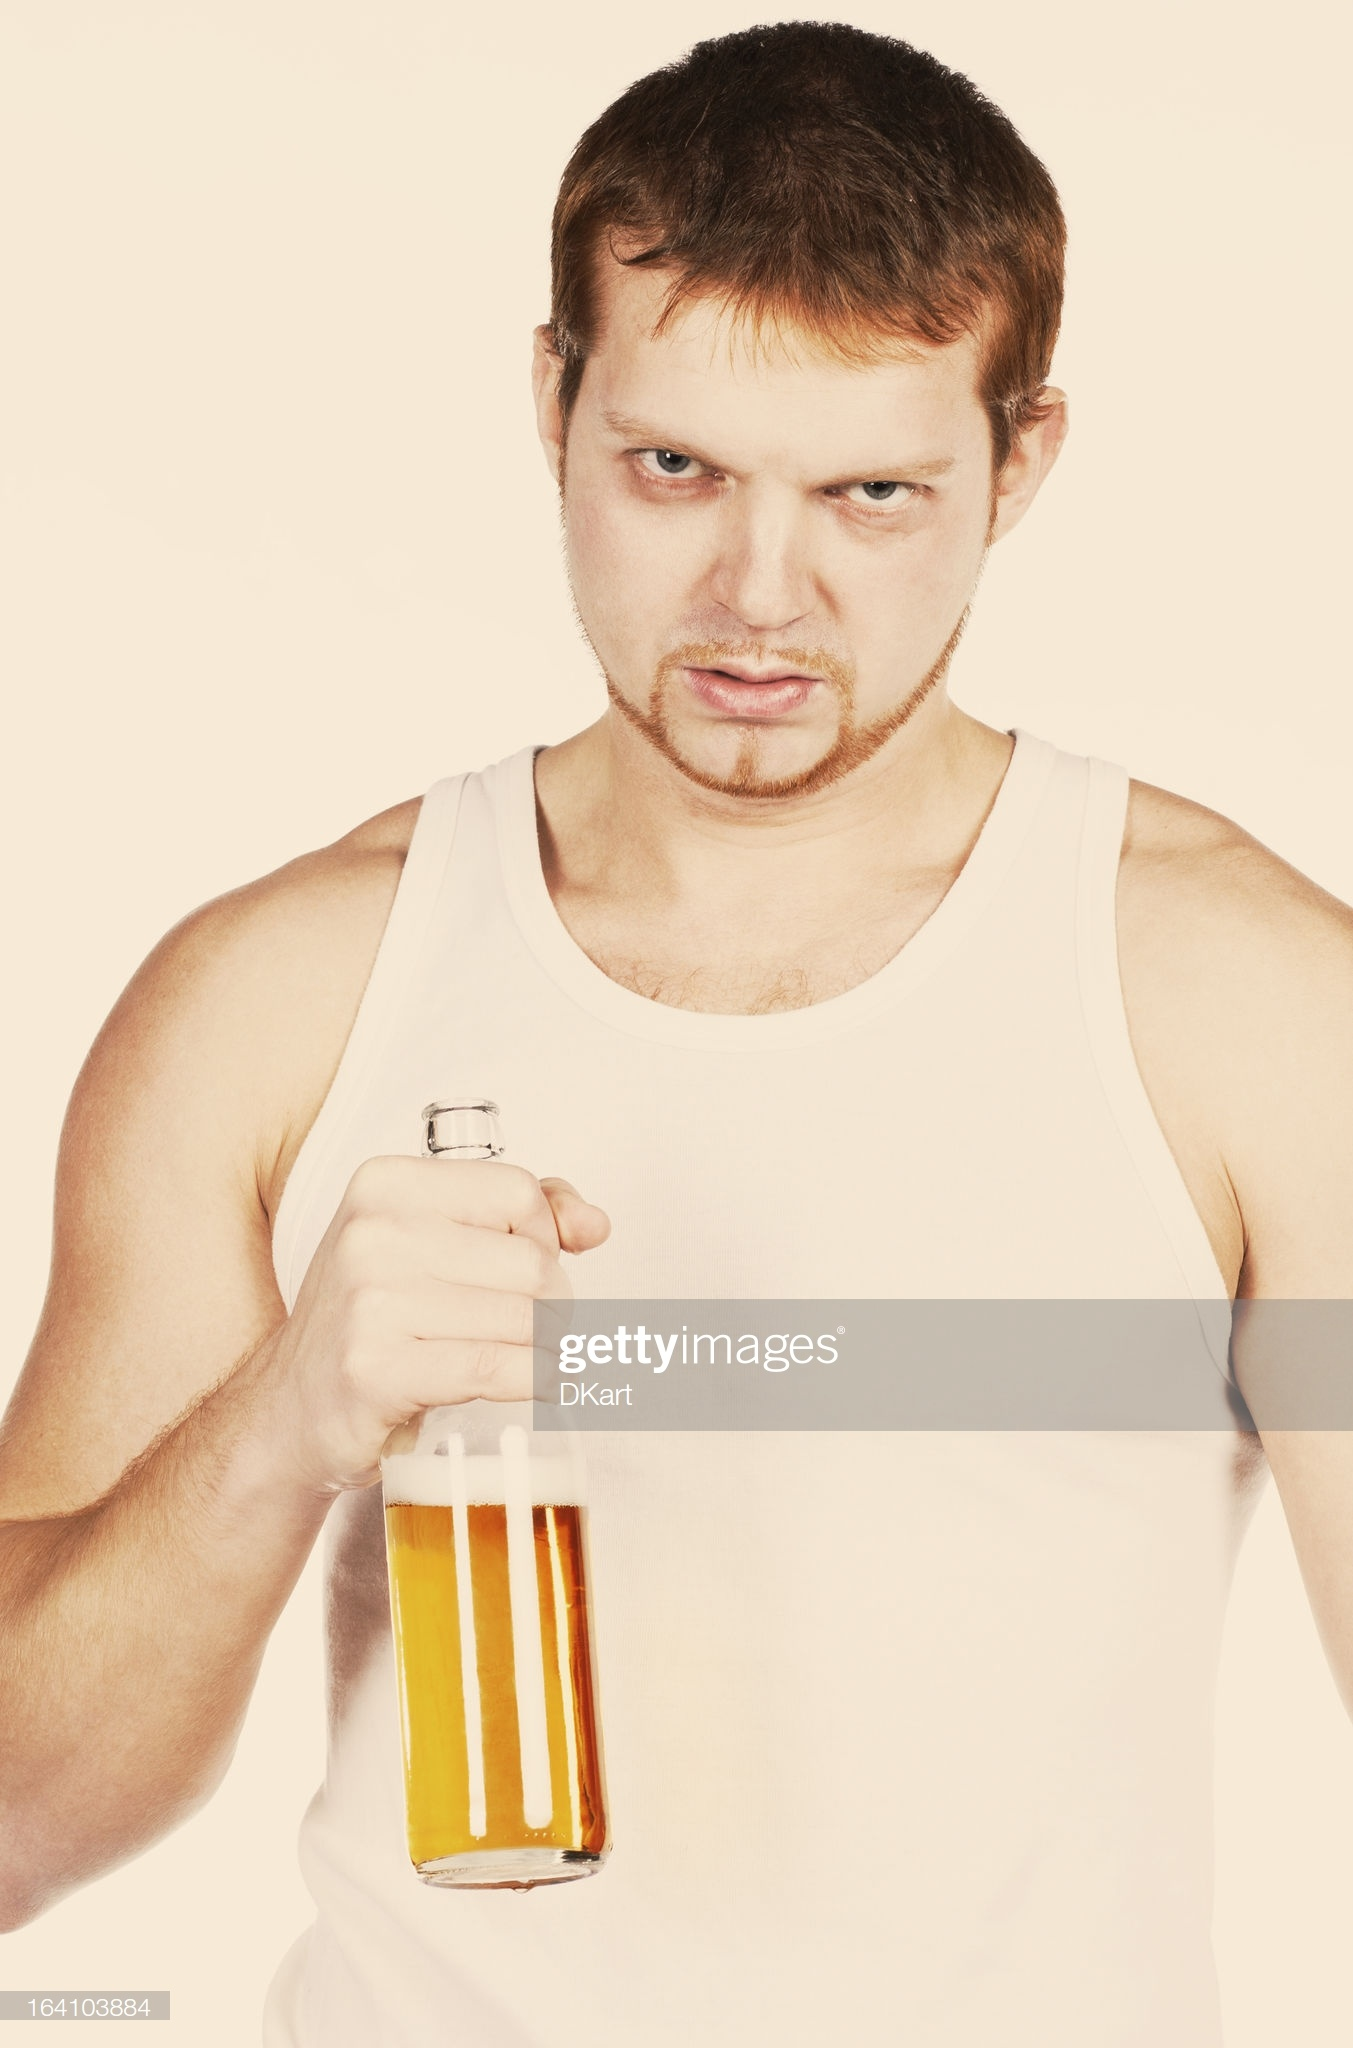beerBottle: (396, 1093, 603, 1890)
